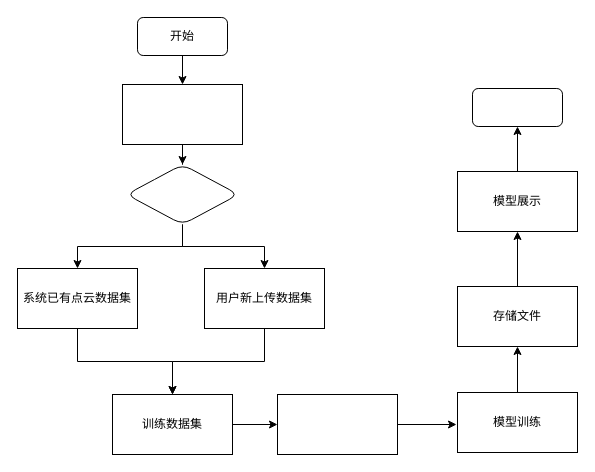
This 595x472 diagram has some shape labels left out. The centre of each missing label's shape, as x and y in pixels:
用户上传数据集: pixel 182 114
结束: pixel 517 107
设定模型参数: pixel 337 424
选择模型类型: pixel 182 194
